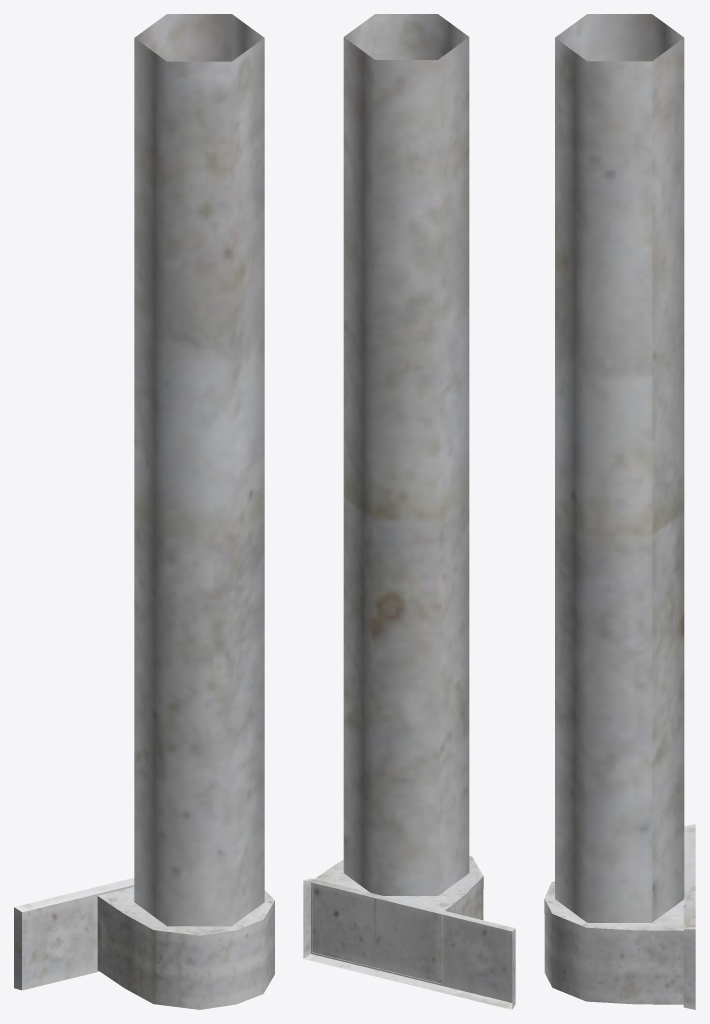
File: SM_Wires_Pipes_01jj.glb
The picture shows the model from 3 angles, left to right: view 1: azimuth 30°, elevation 25°; view 2: azimuth 150°, elevation 25°; view 3: azimuth 270°, elevation 25°; orthographic projection. The views are drawn at different scales.
Parts seen in each view (by area): view 1: SM_Wires_Pipes_01jj; view 2: SM_Wires_Pipes_01jj; view 3: SM_Wires_Pipes_01jj.
Boxes of the visible parts, x1,y1,x2,y2 form: SM_Wires_Pipes_01jj: (14,14,274,1009); SM_Wires_Pipes_01jj: (303,14,515,1009); SM_Wires_Pipes_01jj: (544,14,695,1009).
Bounding box in the file's own units: 0.0605 × 0.2519 × 0.0367.
1 material, 1 textured.
